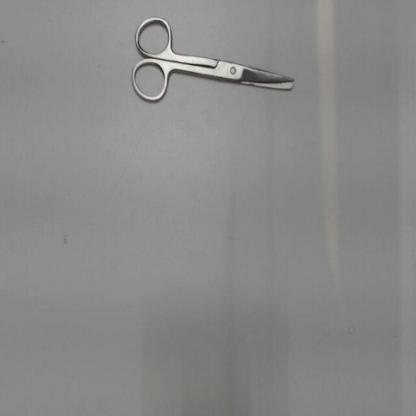Dressing Scissors: (122, 10, 306, 112)
